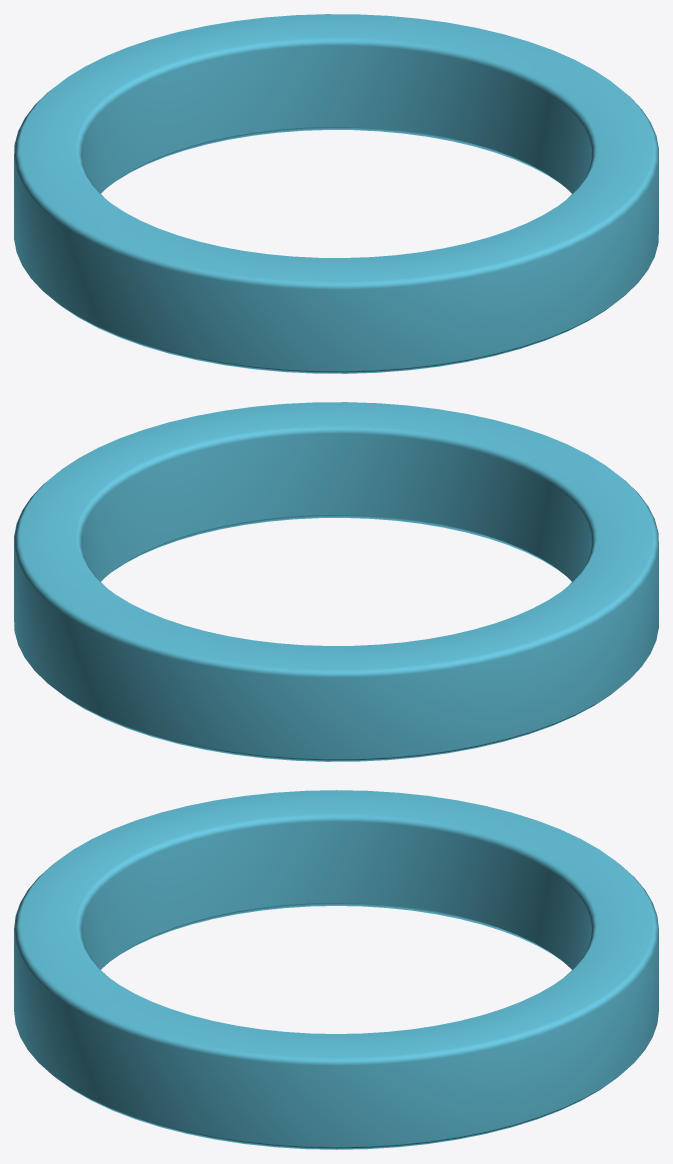
3 renders of one model, top to bottom at view 1: azimuth 30°, elevation 25°; view 2: azimuth 150°, elevation 25°; view 3: azimuth 270°, elevation 25°, orthographic.
Parts seen in each view (by area): view 1: seal_body; view 2: seal_body; view 3: seal_body.
Part boxes in pixels (x1=…): seal_body: x1=14, y1=14, x2=658, y2=373; seal_body: x1=14, y1=402, x2=658, y2=761; seal_body: x1=14, y1=790, x2=658, y2=1149.
Size of the model in its own units: 0.0603 by 0.00952 by 0.0603.
